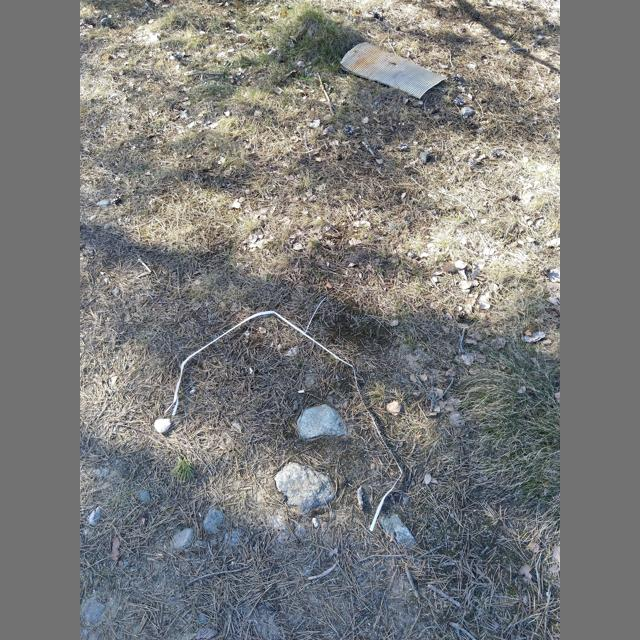litter: (165, 297, 402, 532), (340, 42, 449, 99)
